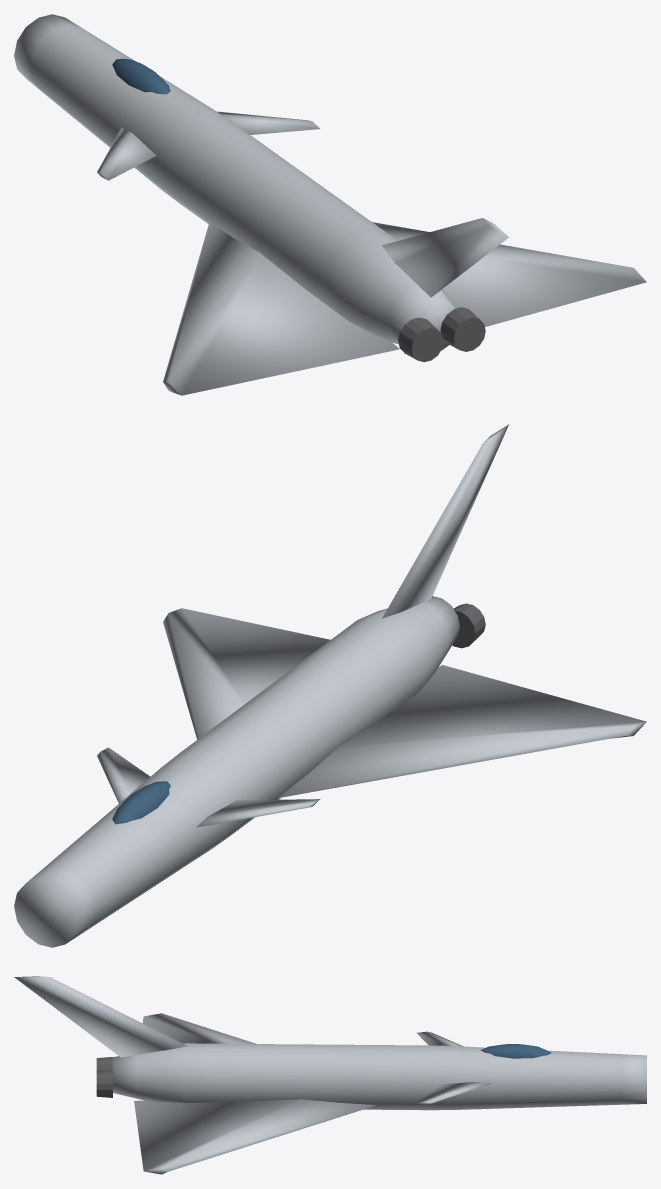
Rendered from typhoon.fbx.
The picture shows the model from 3 angles, top to bottom: view 1: azimuth 30°, elevation 25°; view 2: azimuth 150°, elevation 25°; view 3: azimuth 270°, elevation 25°; orthographic projection. The views are drawn at different scales.
Parts seen in each view (by area): view 1: Body, Detail, Canopy; view 2: Body, Canopy, Detail; view 3: Body, Canopy, Detail.
Part boxes in pixels (x1,y1,x2,y2): Body: (14,14,646,395); Detail: (398,307,485,362); Canopy: (112,58,170,94); Body: (14,424,646,947); Canopy: (112,781,170,824); Detail: (452,603,485,648); Body: (14,976,646,1174); Canopy: (480,1044,551,1058); Detail: (96,1057,112,1097).
Size of the model in its own units: 1095 by 429 by 1891.
